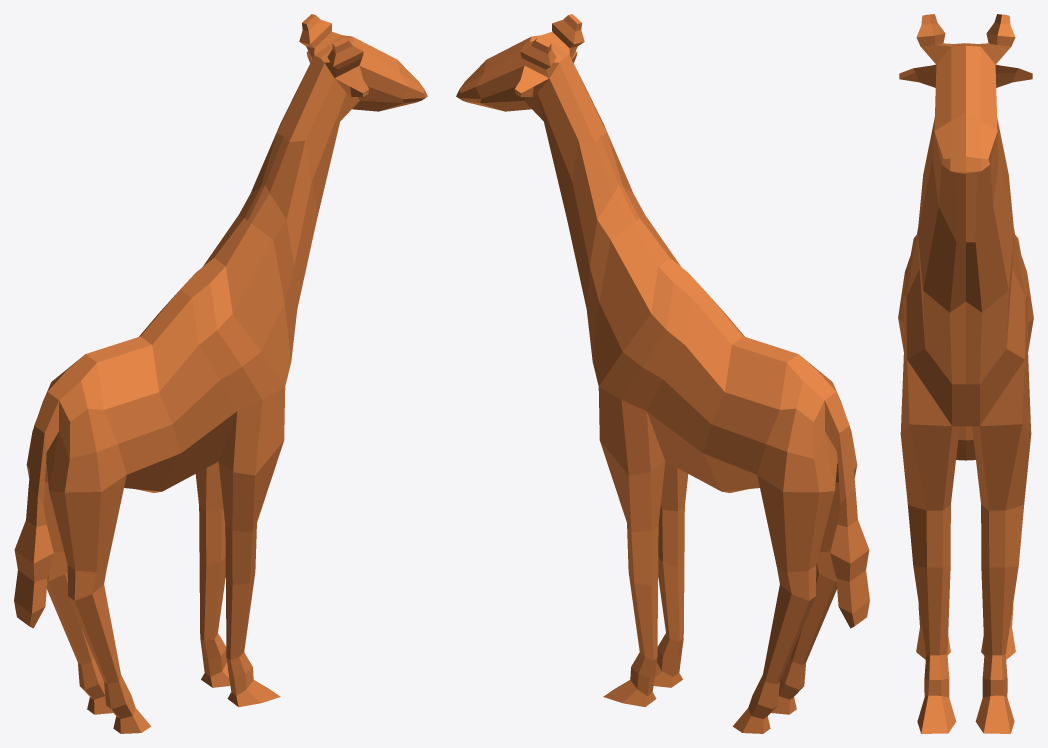
File: LowPoly - Giraffe.fbx
3 views of the same model, side by side, from view 1: azimuth 30°, elevation 25°; view 2: azimuth 150°, elevation 25°; view 3: azimuth 270°, elevation 25° (orthographic). The views are drawn at different scales.
Parts seen in each view (by area): view 1: Giraffe; view 2: Giraffe; view 3: Giraffe.
Part boxes in pixels (x1=…): Giraffe: x1=14, y1=14, x2=427, y2=733; Giraffe: x1=456, y1=14, x2=869, y2=733; Giraffe: x1=898, y1=14, x2=1033, y2=733.
Bounding box in the file's own units: 347 × 531 × 86.19.
